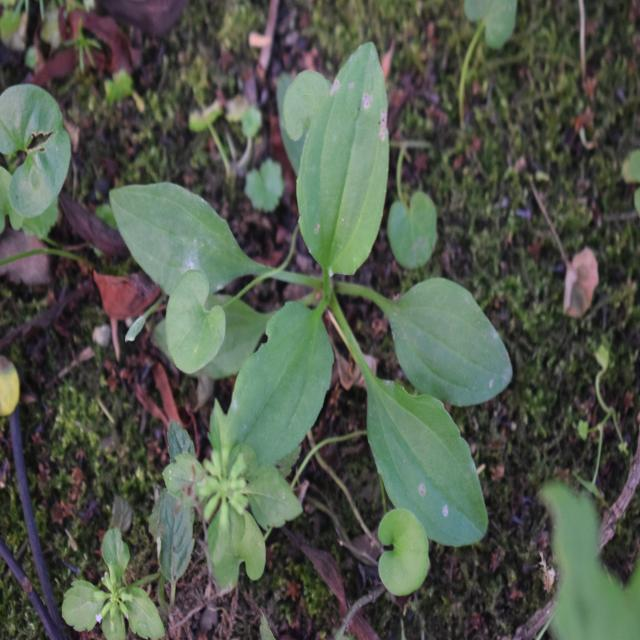plantain: (136, 85, 499, 534)
